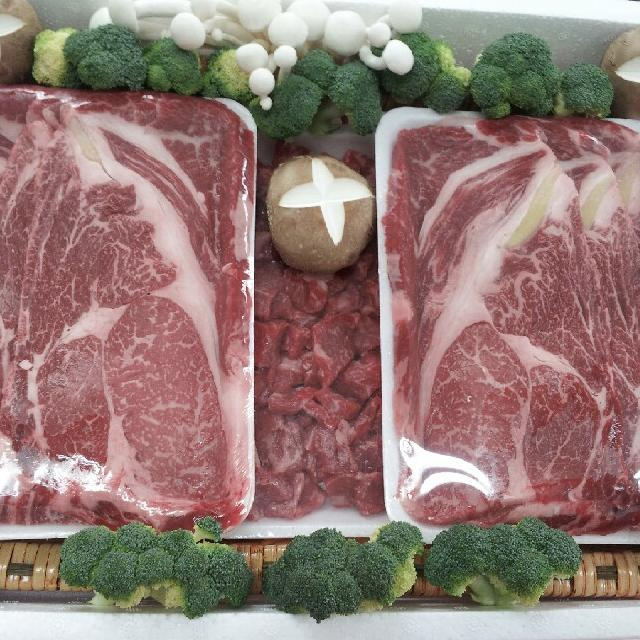beef: (386, 119, 640, 493), (0, 104, 216, 473)
